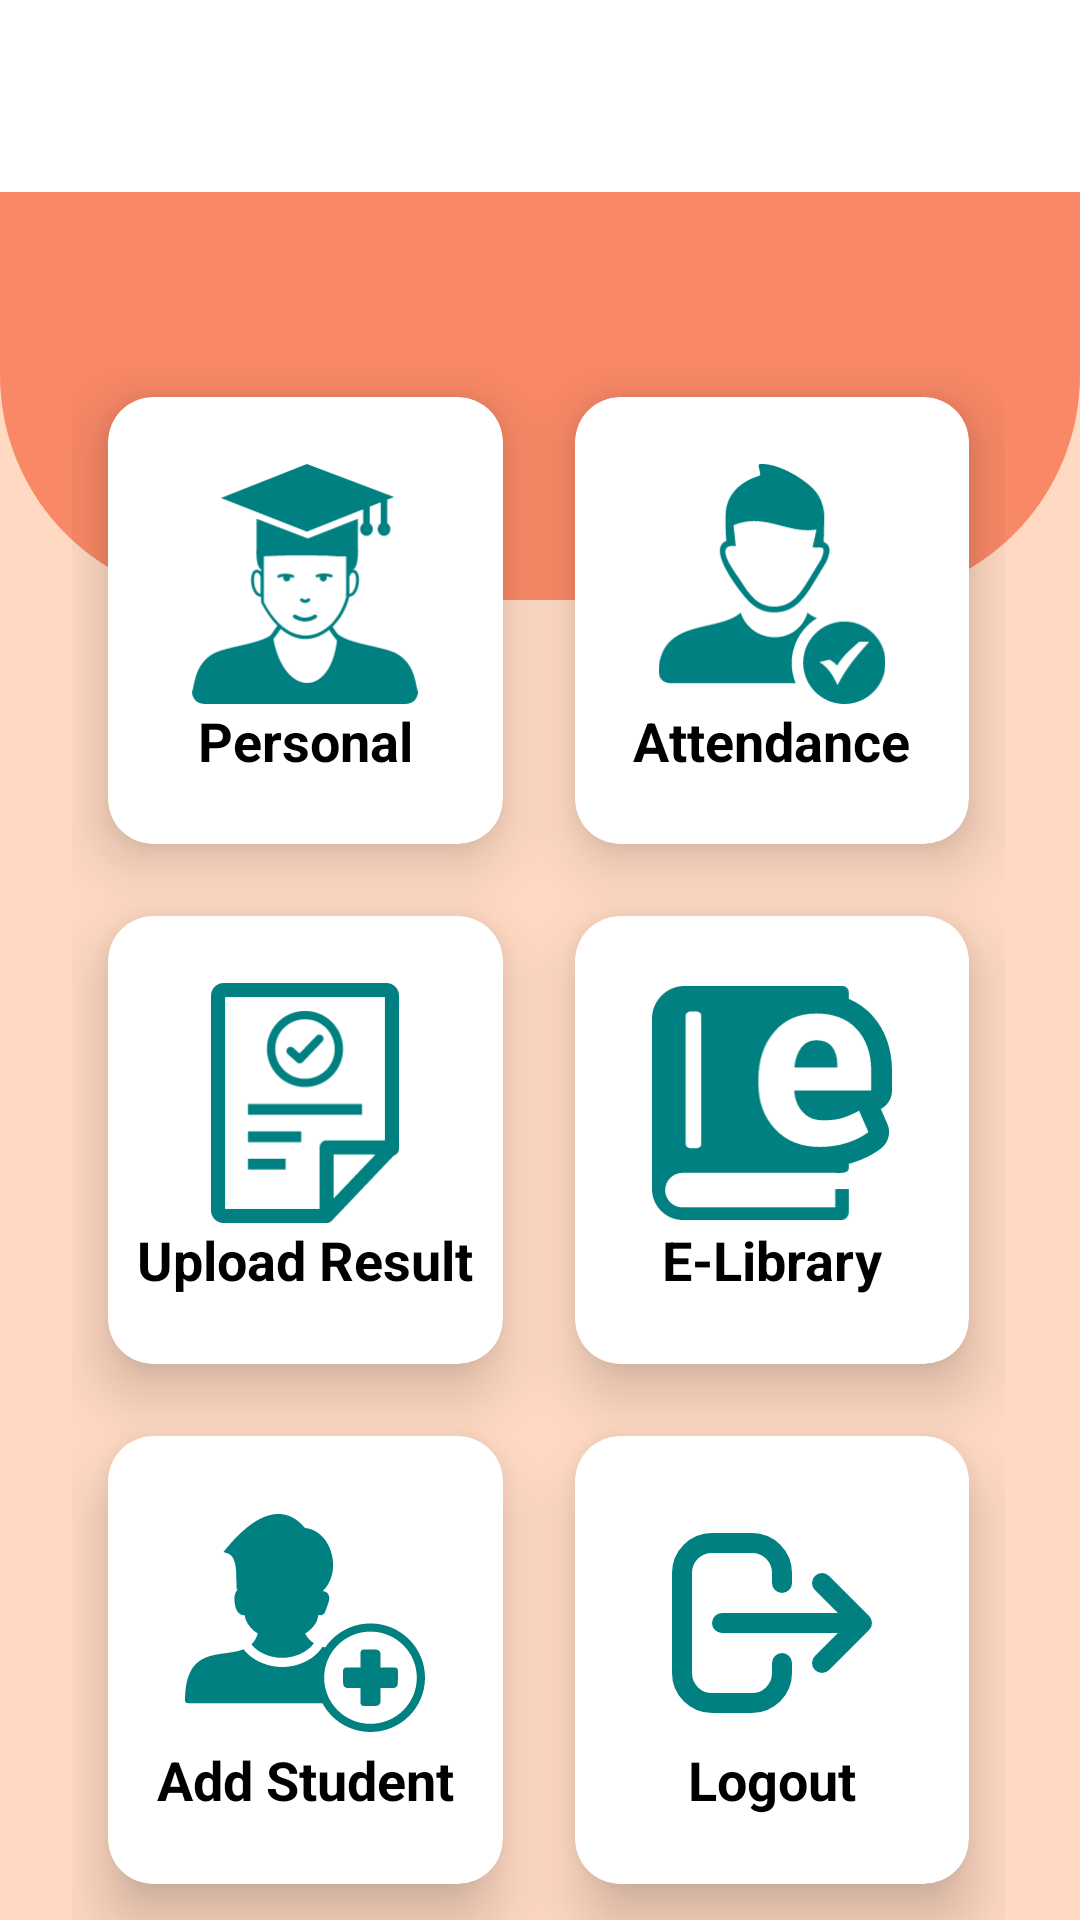

Icon click points for this 1080*1920 phone screenshot, format (x,y):
graduation student: (305,584)
